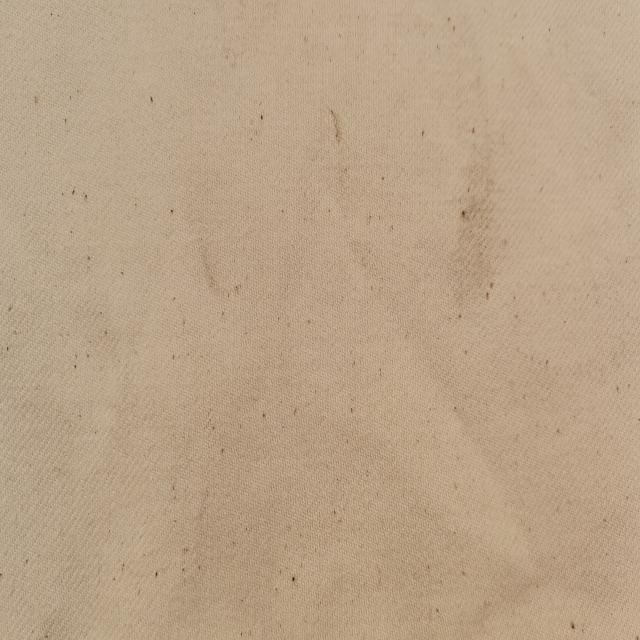taaaches: (444, 183, 510, 320), (192, 234, 233, 320), (321, 92, 351, 154)
